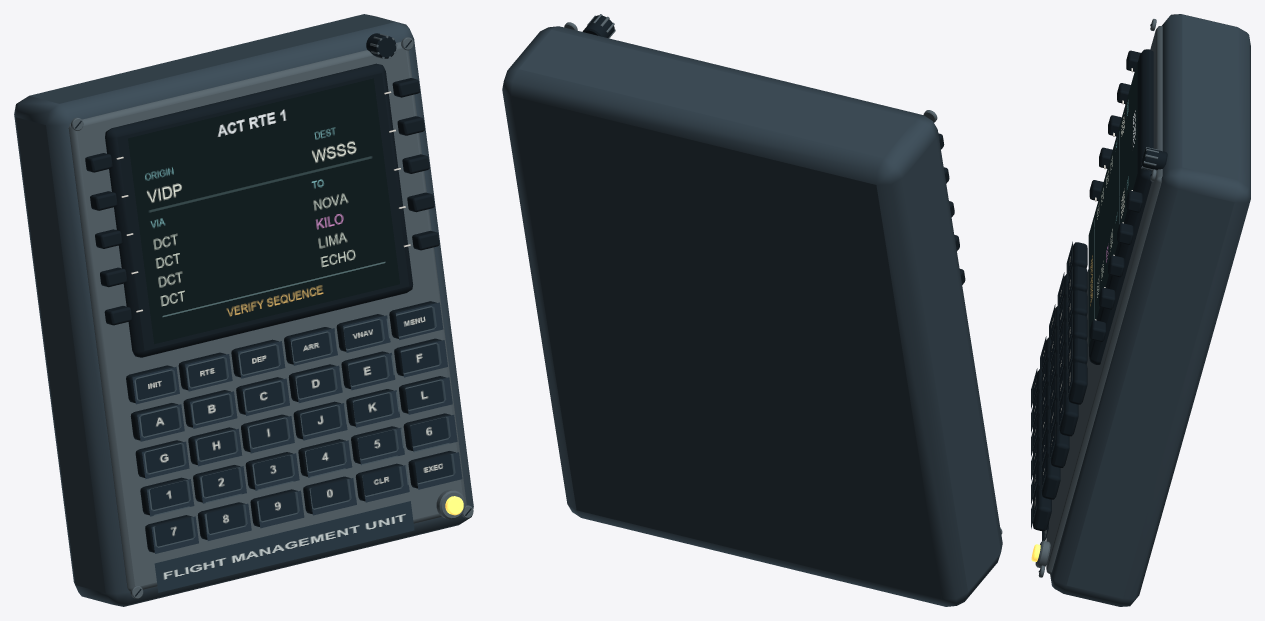
The model's file is navigation.glb.
The picture shows the model from 3 angles, left to right: view 1: azimuth 30°, elevation 25°; view 2: azimuth 150°, elevation 25°; view 3: azimuth 270°, elevation 25°; orthographic projection. The views are drawn at different scales.
Visible parts, largest first — view 1: Static / Emissive instrument displays.001, Static / Embedded instrument / placard atlas.002, Static / Gunmetal fasteners.002, Static / Instrument panel.001, Static / Rubber seals.002; view 2: Static / Instrument panel.001, Static / Rubber seals.002; view 3: Static / Instrument panel.001, Static / Rubber seals.002, Static / Gunmetal fasteners.002, Static / Emissive instrument displays.001, Static / Embedded instrument / placard atlas.002.
Boxes of the visible parts, x1,y1,x2,y2 form: Static / Emissive instrument displays.001: [127, 78, 400, 344]; Static / Embedded instrument / placard atlas.002: [132, 302, 462, 592]; Static / Gunmetal fasteners.002: [68, 34, 473, 598]; Static / Instrument panel.001: [14, 14, 473, 606]; Static / Rubber seals.002: [75, 33, 471, 596]; Static / Instrument panel.001: [502, 26, 1002, 606]; Static / Rubber seals.002: [582, 15, 965, 284]; Static / Instrument panel.001: [1050, 14, 1250, 606]; Static / Rubber seals.002: [1033, 23, 1167, 572]; Static / Gunmetal fasteners.002: [1035, 19, 1162, 577]; Static / Emissive instrument displays.001: [1088, 62, 1137, 346]; Static / Embedded instrument / placard atlas.002: [1031, 241, 1072, 540].
Bounding box in the file's own units: 0.515 × 0.6405 × 0.2867.
7 materials, 2 textured.
